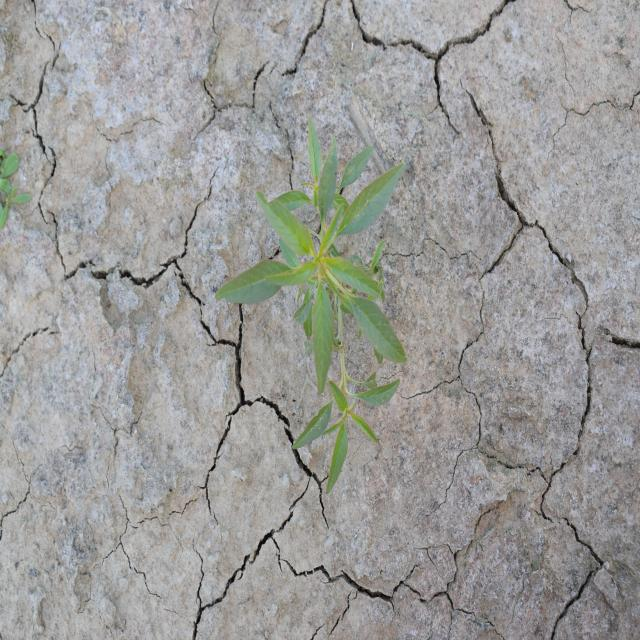Carpetweed: (0, 147, 33, 231)
Waterhemp: (213, 114, 409, 496)
